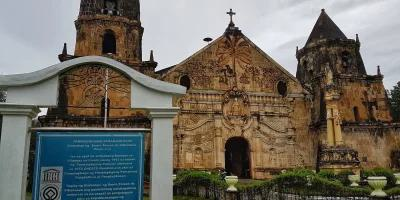miagao_church_miagao_iloilo: (56, 1, 400, 173)
